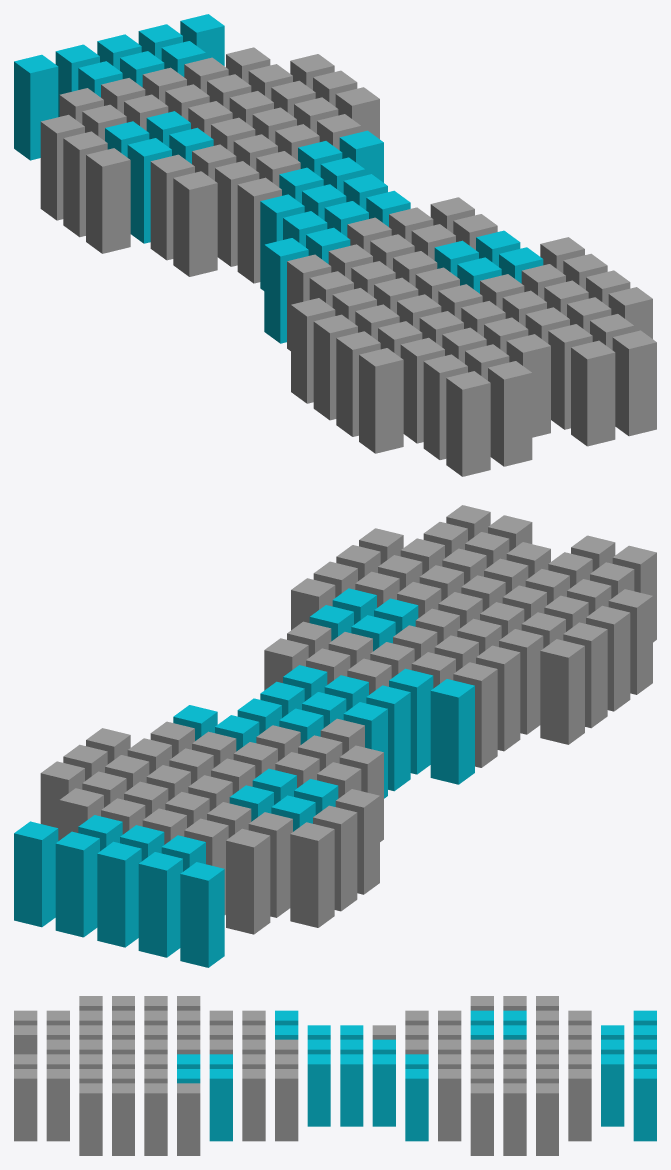
File: WaterbottleMesh.fbx
3 renders of one model, top to bottom at view 1: azimuth 30°, elevation 25°; view 2: azimuth 150°, elevation 25°; view 3: azimuth 270°, elevation 25°, orthographic. The views are drawn at different scales.
Parts seen in each view (by area): view 1: WaterBottleMesh; view 2: WaterBottleMesh; view 3: WaterBottleMesh.
Part boxes in pixels (x1,y1,x2,y2): WaterBottleMesh: (14, 14, 656, 476); WaterBottleMesh: (14, 505, 656, 967); WaterBottleMesh: (14, 996, 656, 1155).
Size of the model in its own units: 31.3 by 9.4 by 87.57.
